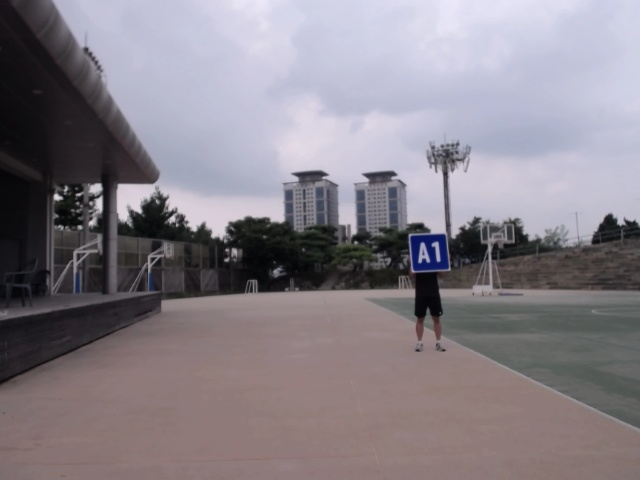delivery_a1: (410, 233, 448, 271)
